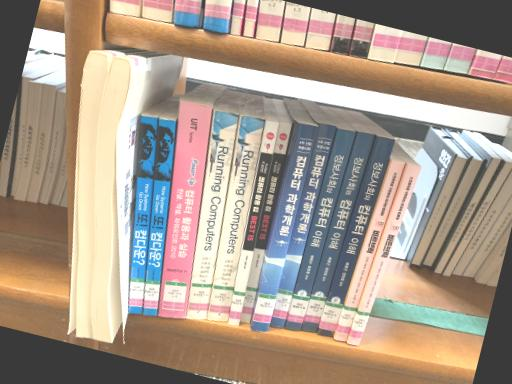book-spine: (316, 136, 395, 337), (302, 132, 376, 333), (285, 128, 356, 330), (250, 124, 317, 332), (347, 164, 421, 346), (270, 123, 335, 328), (334, 160, 405, 341), (207, 116, 264, 321), (158, 100, 211, 318), (186, 111, 238, 318), (227, 121, 278, 326), (240, 122, 291, 323), (142, 118, 176, 316), (127, 115, 158, 315)
